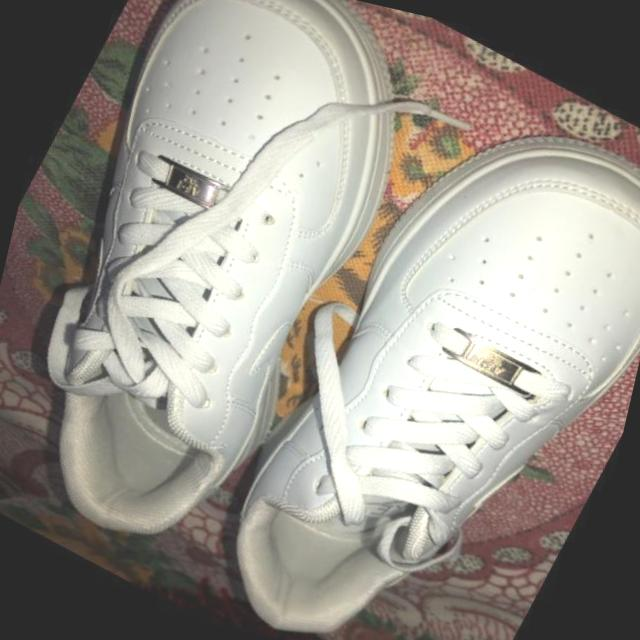nike_fake_airforce: (0, 0, 479, 612), (182, 37, 640, 640)
